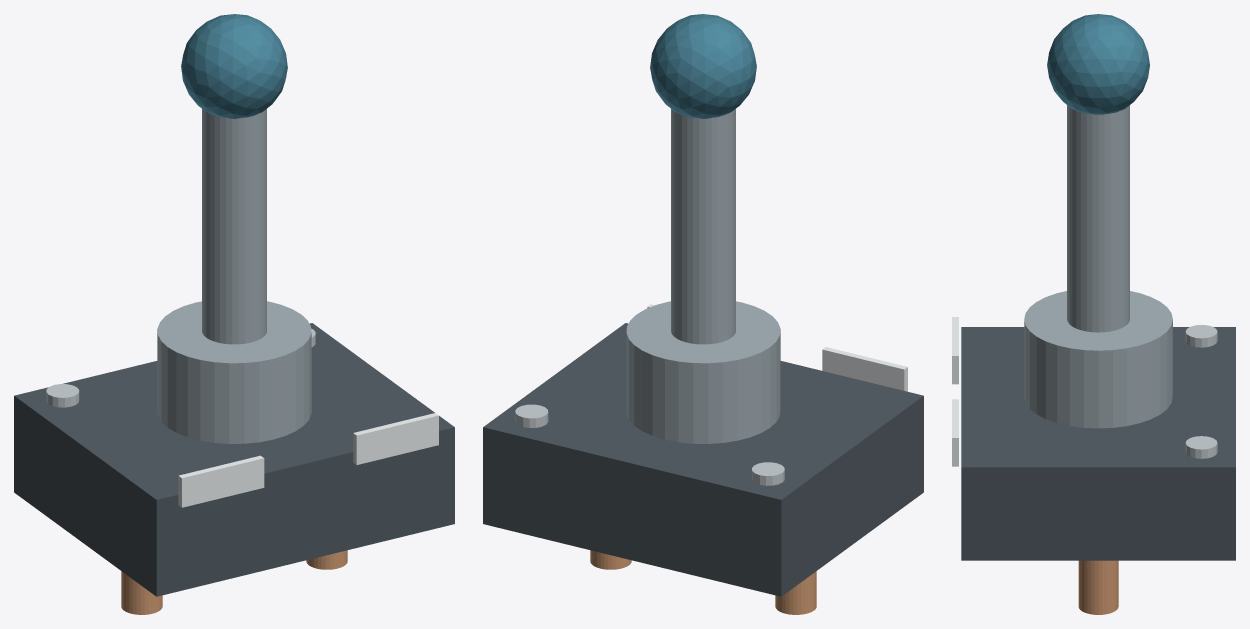
The model's file is toggle_switch_lod1.glb.
The picture shows the model from 3 angles, left to right: view 1: azimuth 30°, elevation 25°; view 2: azimuth 150°, elevation 25°; view 3: azimuth 270°, elevation 25°; orthographic projection. The views are drawn at different scales.
Visible parts, largest first — view 1: SW_BASE_MAT_POLYMER_BLACK, SW_COLLAR_MAT_METAL_BRUSHED, SW_LEVER_MAT_METAL_BRUSHED, SW_TIP_MAT_POLYMER_BLUE, SW_ON_LABEL_MAT_LABEL, SW_OFF_LABEL_MAT_LABEL, SW_TERM_-0.18_MAT_METAL_COPPER, SW_SCREW_0_MAT_STAINLESS; view 2: SW_BASE_MAT_POLYMER_BLACK, SW_COLLAR_MAT_METAL_BRUSHED, SW_LEVER_MAT_METAL_BRUSHED, SW_TIP_MAT_POLYMER_BLUE, SW_ON_LABEL_MAT_LABEL, SW_TERM_-0.18_MAT_METAL_COPPER, SW_SCREW_1_MAT_STAINLESS, SW_SCREW_0_MAT_STAINLESS; view 3: SW_BASE_MAT_POLYMER_BLACK, SW_COLLAR_MAT_METAL_BRUSHED, SW_LEVER_MAT_METAL_BRUSHED, SW_TIP_MAT_POLYMER_BLUE, SW_TERM_0.18_MAT_METAL_COPPER, SW_SCREW_0_MAT_STAINLESS, SW_SCREW_1_MAT_STAINLESS, SW_ON_LABEL_MAT_LABEL, SW_OFF_LABEL_MAT_LABEL.
Part boxes in pixels (x1,y1,x2,y2): SW_BASE_MAT_POLYMER_BLACK: (14, 323, 454, 596); SW_COLLAR_MAT_METAL_BRUSHED: (157, 301, 311, 443); SW_LEVER_MAT_METAL_BRUSHED: (202, 109, 266, 344); SW_TIP_MAT_POLYMER_BLUE: (181, 14, 287, 118); SW_ON_LABEL_MAT_LABEL: (178, 455, 264, 507); SW_OFF_LABEL_MAT_LABEL: (353, 413, 438, 464); SW_TERM_-0.18_MAT_METAL_COPPER: (121, 571, 162, 614); SW_SCREW_0_MAT_STAINLESS: (46, 384, 79, 407); SW_BASE_MAT_POLYMER_BLACK: (483, 323, 923, 596); SW_COLLAR_MAT_METAL_BRUSHED: (626, 301, 780, 443); SW_LEVER_MAT_METAL_BRUSHED: (671, 109, 735, 344); SW_TIP_MAT_POLYMER_BLUE: (650, 14, 756, 118); SW_ON_LABEL_MAT_LABEL: (822, 347, 907, 391); SW_TERM_-0.18_MAT_METAL_COPPER: (775, 571, 816, 614); SW_SCREW_1_MAT_STAINLESS: (515, 404, 548, 427); SW_SCREW_0_MAT_STAINLESS: (752, 462, 784, 485); SW_BASE_MAT_POLYMER_BLACK: (961, 327, 1235, 560); SW_COLLAR_MAT_METAL_BRUSHED: (1024, 291, 1172, 428); SW_LEVER_MAT_METAL_BRUSHED: (1067, 105, 1129, 332); SW_TIP_MAT_POLYMER_BLUE: (1047, 14, 1149, 114); SW_TERM_0.18_MAT_METAL_COPPER: (1078, 560, 1118, 614); SW_SCREW_0_MAT_STAINLESS: (1185, 324, 1217, 347); SW_SCREW_1_MAT_STAINLESS: (1185, 436, 1217, 458); SW_ON_LABEL_MAT_LABEL: (952, 317, 958, 384); SW_OFF_LABEL_MAT_LABEL: (952, 399, 958, 466).
Bounding box in the file's own units: 0.58 × 1.05 × 0.496.
